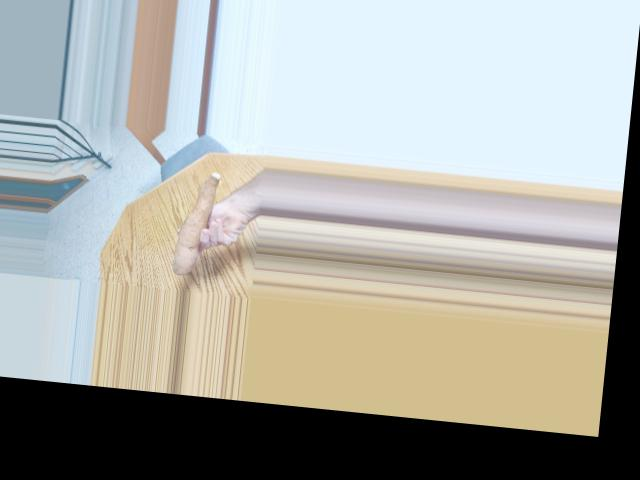sweet_potato: (166, 170, 227, 275)
